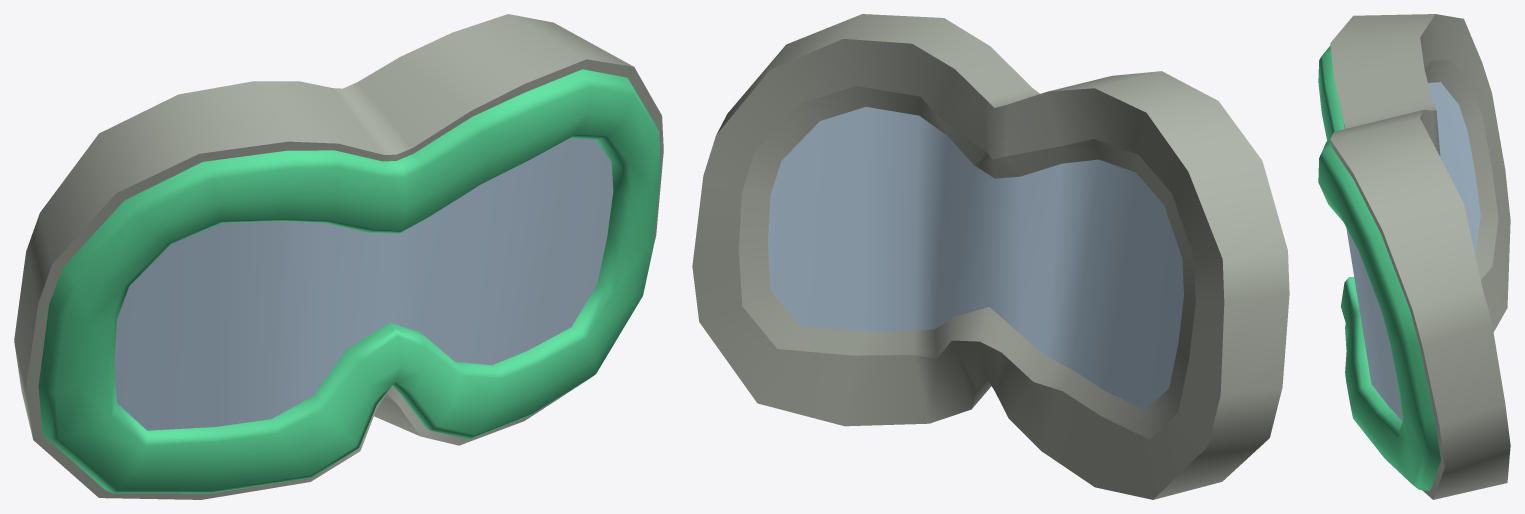
Rendered from Glasses_16_02.fbx.
3 renders of one model, left to right at view 1: azimuth 30°, elevation 25°; view 2: azimuth 150°, elevation 25°; view 3: azimuth 270°, elevation 25°, orthographic. The views are drawn at different scales.
Visible parts, largest first — view 1: Glasses_16_02; view 2: Glasses_16_02; view 3: Glasses_16_02.
Part boxes in pixels (x1=…): Glasses_16_02: x1=14, y1=14, x2=663, y2=499; Glasses_16_02: x1=692, y1=14, x2=1289, y2=499; Glasses_16_02: x1=1318, y1=14, x2=1510, y2=499.
Size of the model in its own units: 25.81 by 15.59 by 8.18.
